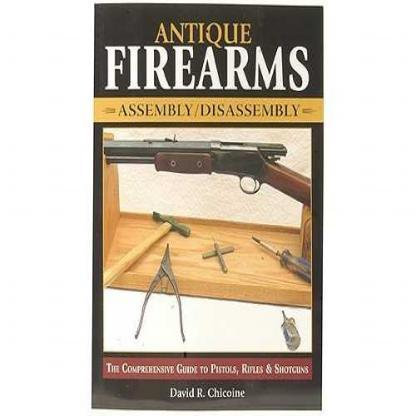Heavy Gun: (109, 137, 314, 208)
